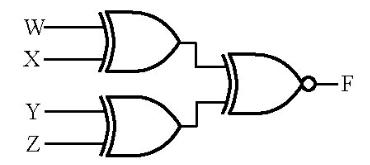xnor: (218, 48, 319, 119)
xor: (95, 6, 182, 77), (96, 92, 186, 160)
